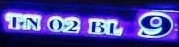character: (136, 12, 172, 39), (5, 14, 22, 29), (88, 19, 105, 34), (24, 16, 39, 31), (63, 18, 78, 33), (47, 17, 62, 31), (108, 21, 120, 36)
